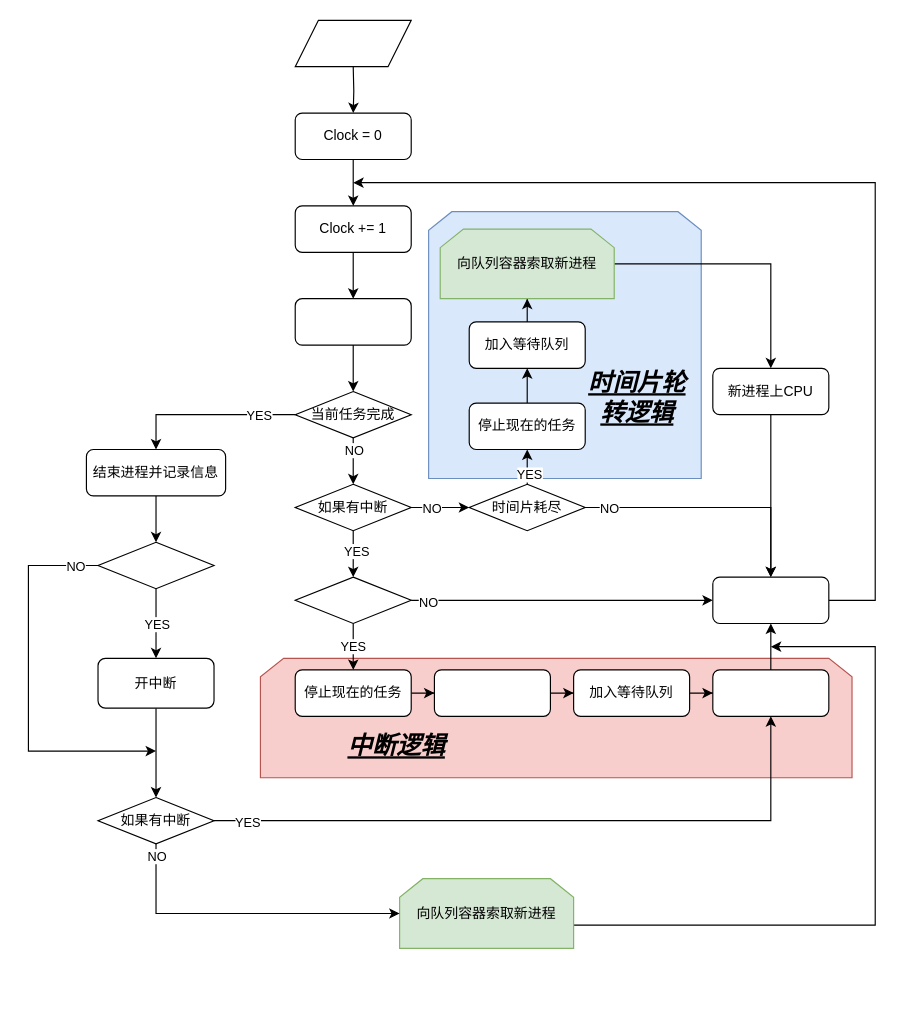
Some shapes in this 905 by 1027 pixel diagram are drawn without their labels. The shapes that lost their labels are listed below. From the top down, each one's box as (x1, y1, x2, y2) in pixels, then its label:
(294, 19, 411, 67): CPU启动
(294, 298, 411, 345): 维护队列
(97, 541, 214, 589): 结束的是中断
(294, 576, 411, 624): 如果开中断
(712, 576, 829, 624): 运行一个时钟
(433, 669, 550, 716): 关中断
(712, 669, 829, 716): 新中断上CPU
